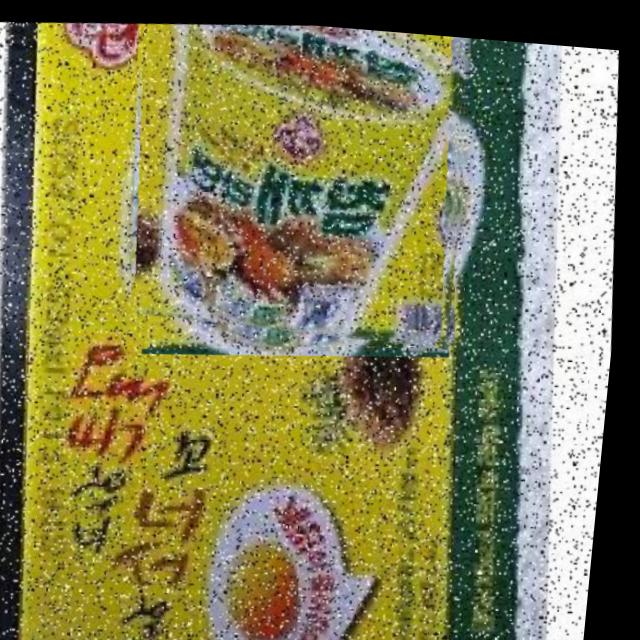Miscellaneous: (113, 9, 491, 364)
